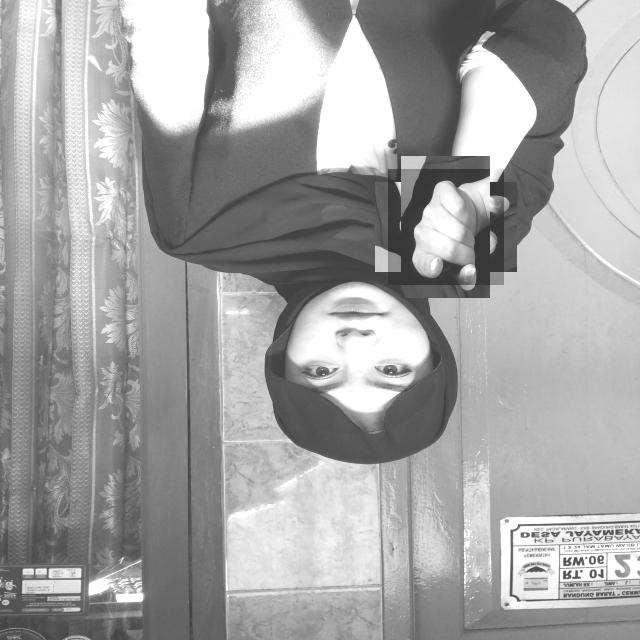kamu: (388, 169, 504, 285)
